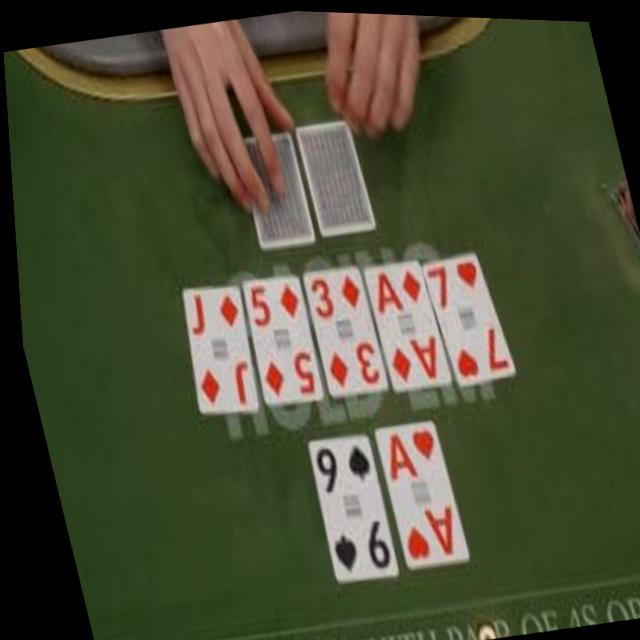Card-3: (299, 261, 382, 394)
Card-5: (237, 271, 318, 400)
Card-7: (419, 247, 510, 385)
Card-9: (301, 431, 391, 576)
Card-A: (367, 417, 461, 566), (361, 255, 445, 389)
Card-J: (177, 280, 252, 410)
